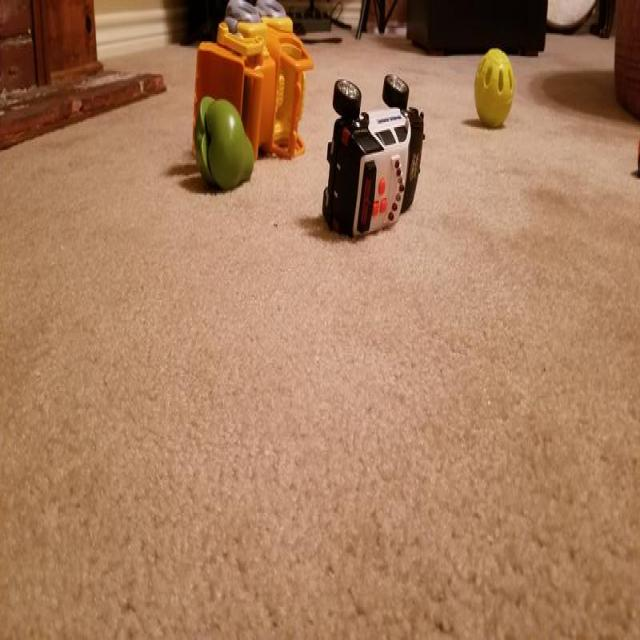toy: (186, 0, 304, 168), (319, 66, 425, 236), (196, 92, 259, 198), (475, 42, 513, 134)
